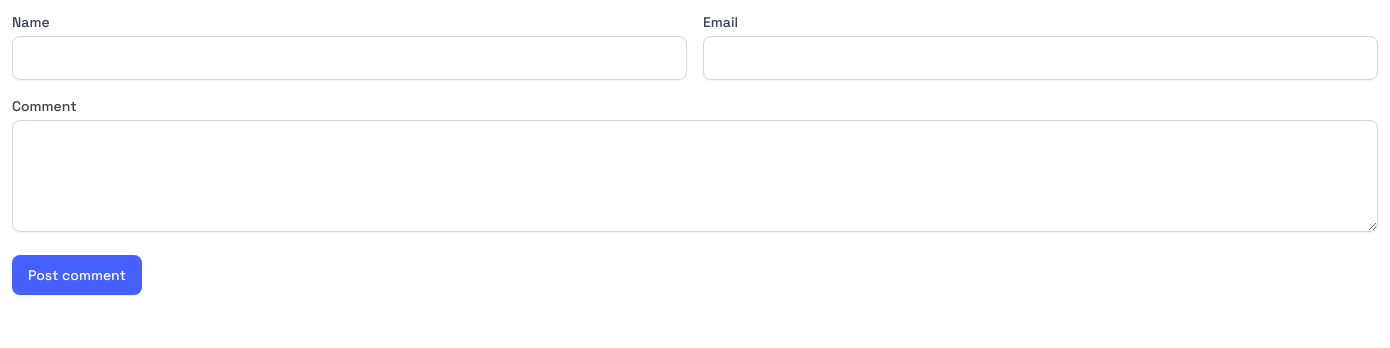
Test: CommentForm › submits comment and shows moderation message
Type "Guest User" into the field labelled "Name".
click(350, 58); type("Guest User")  # box [12,36,687,80]
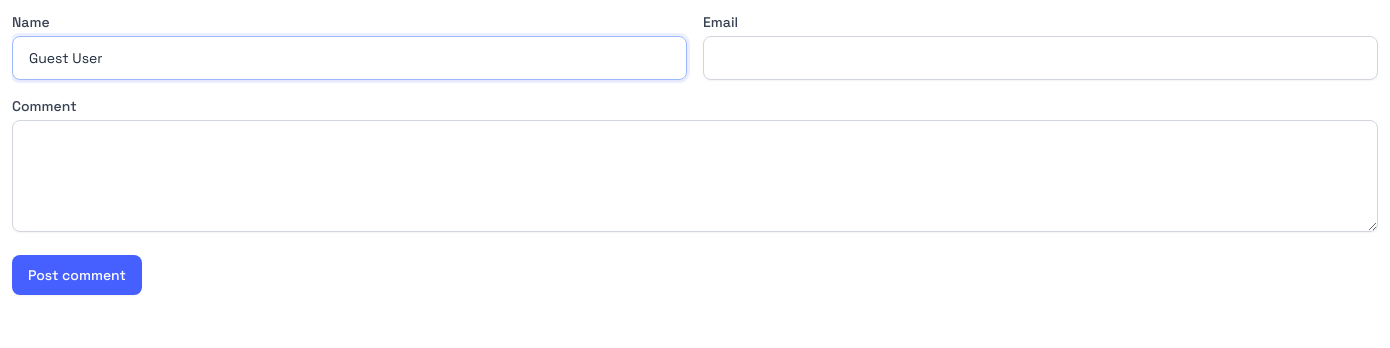
Type "guest@example.com" into the field labelled "Email".
click(1040, 58); type("guest@example.com")  # box [703,36,1378,80]
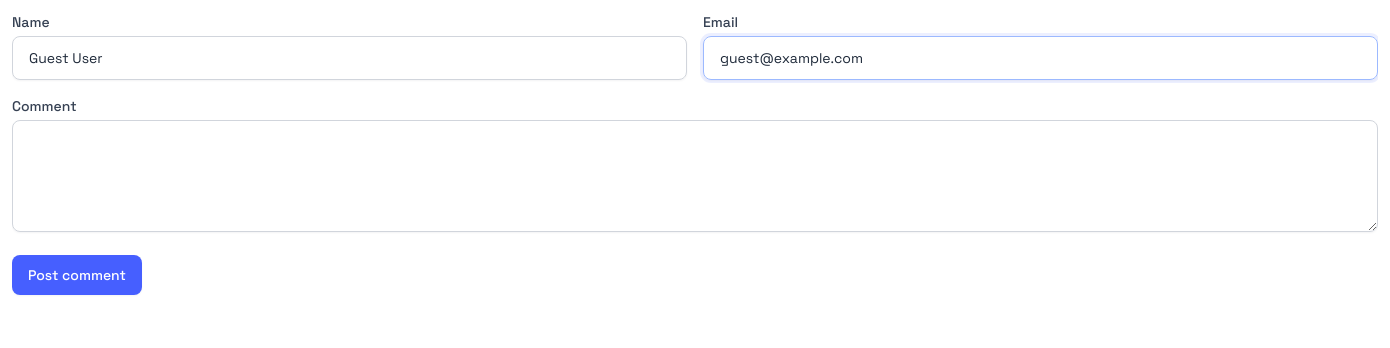
Type "Nice post!" into the text box labelled "Comment".
click(695, 176); type("Nice post!")  # box [12,120,1378,232]
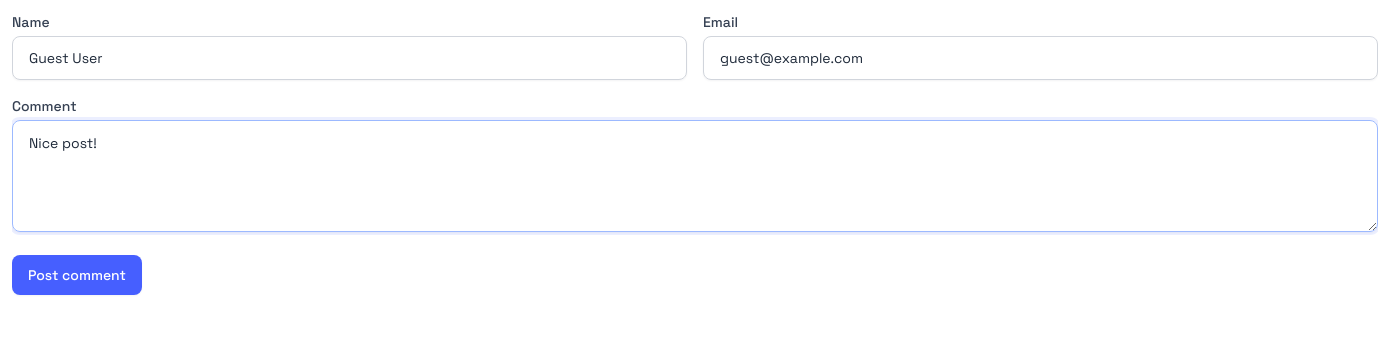
Click the button "Post comment".
click(77, 275)  # box [12,255,142,295]
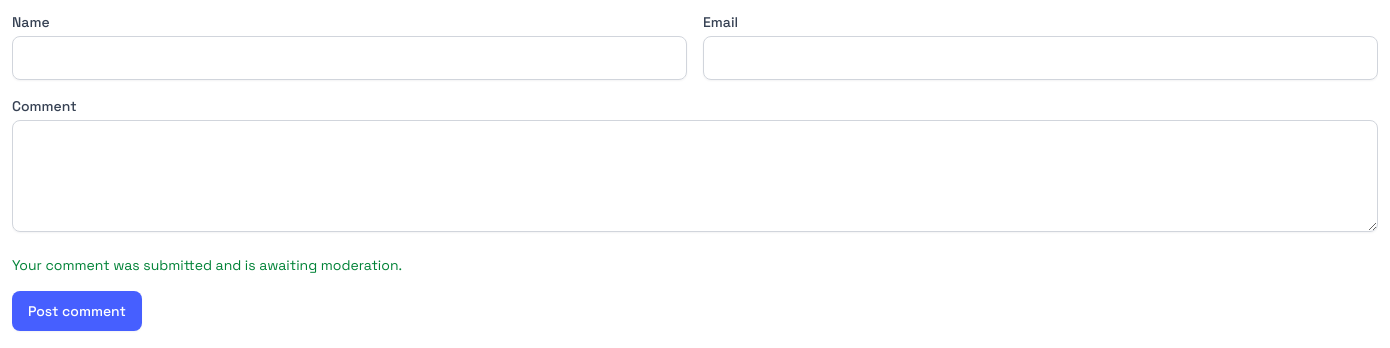
Now the text "Your comment was submitted and is awaiting moderation." is shown, box [12,256,402,274]
